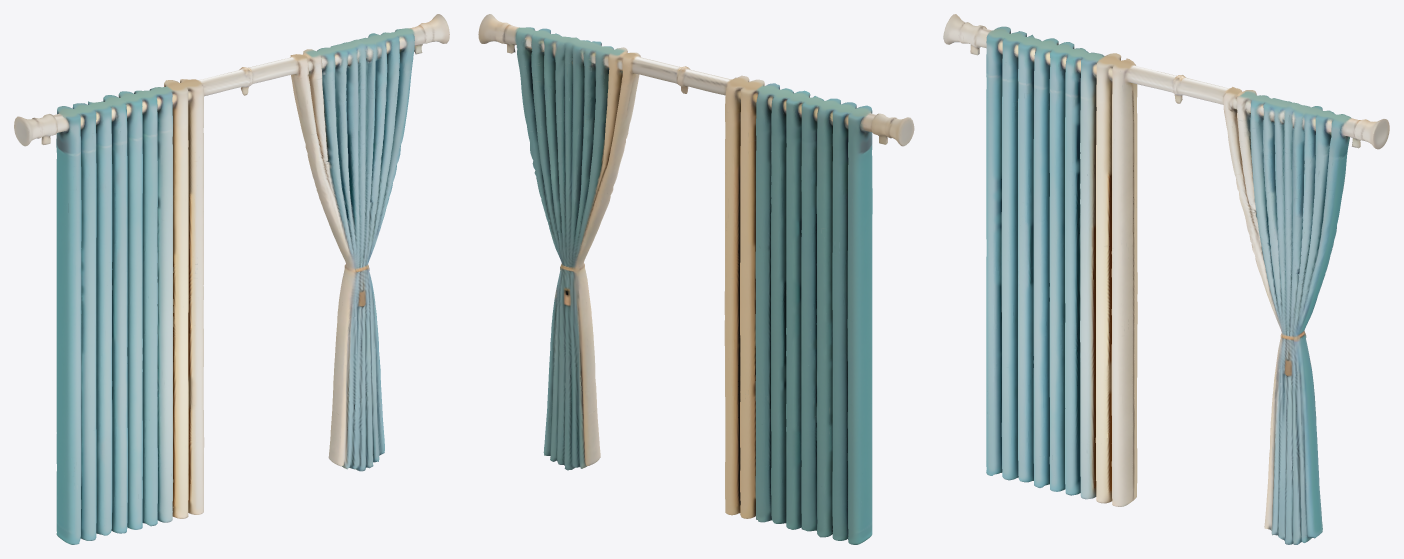
Rendered from 客厅窗帘 (3).fbx.
The picture shows the model from 3 angles, left to right: view 1: azimuth 30°, elevation 25°; view 2: azimuth 150°, elevation 25°; view 3: azimuth 330°, elevation 25°; orthographic projection. The views are drawn at different scales.
Parts seen in each view (by area): view 1: model; view 2: model; view 3: model.
Boxes of the visible parts, <box> form: model: <box>14,14,449,544</box>; model: <box>478,14,914,544</box>; model: <box>943,14,1389,544</box>.
Bounding box in the file's own units: 174 × 171 × 12.83.
